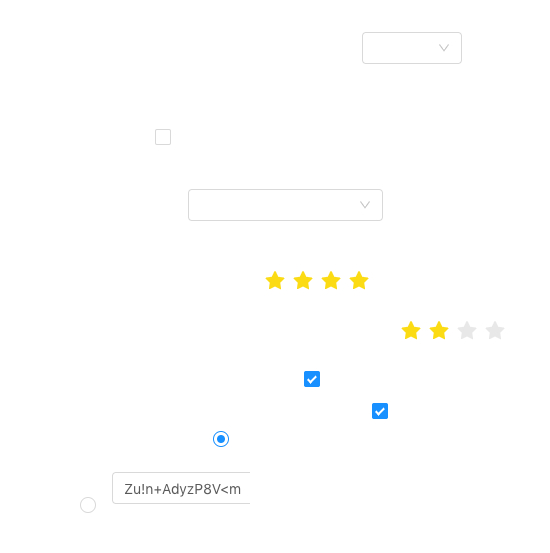Checkbox: (372, 400, 388, 421), (304, 368, 320, 389), (155, 126, 171, 147)
Input: (112, 472, 250, 504)
Radio: (80, 494, 96, 514), (213, 428, 229, 448)
Rate: (265, 264, 385, 296), (401, 314, 521, 346)
Select: (188, 189, 383, 221), (362, 32, 462, 64)
